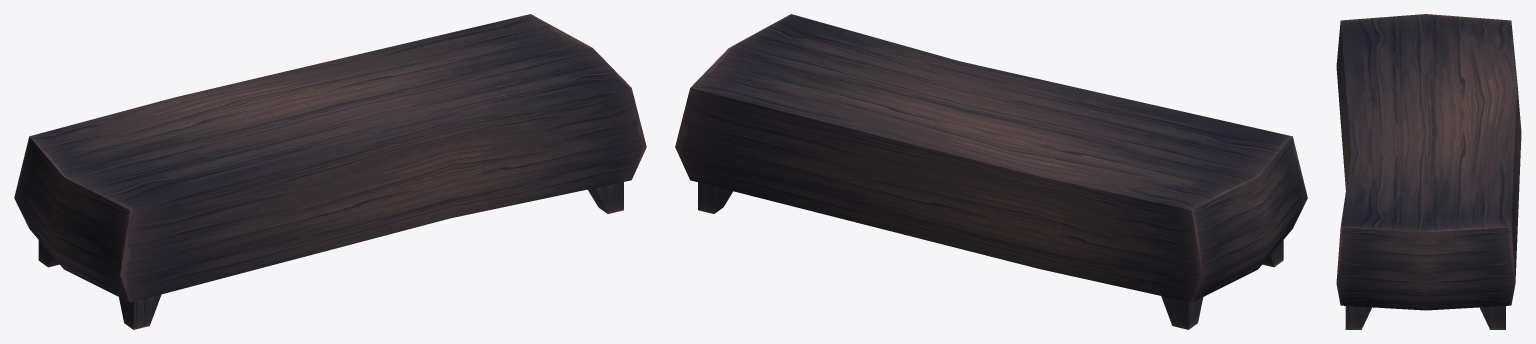
Rendered from Counter_F.fbx.
3 renders of one model, left to right at view 1: azimuth 30°, elevation 25°; view 2: azimuth 150°, elevation 25°; view 3: azimuth 270°, elevation 25°, orthographic. The views are drawn at different scales.
Parts seen in each view (by area): view 1: Counter_F; view 2: Counter_F; view 3: Counter_F.
Part boxes in pixels (x1,y1,x2,y2): Counter_F: (14,14,646,329); Counter_F: (675,14,1307,329); Counter_F: (1336,14,1521,329).
Size of the model in its own units: 1.04 by 0.2211 by 0.355.
